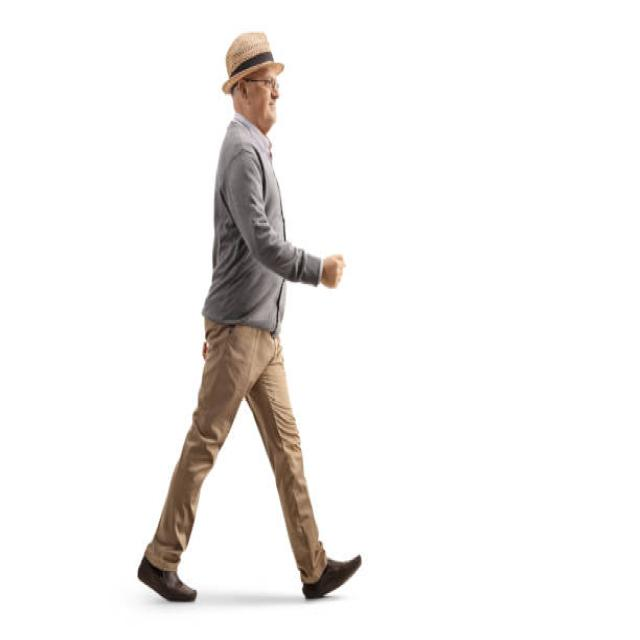Person: (137, 30, 362, 602)
